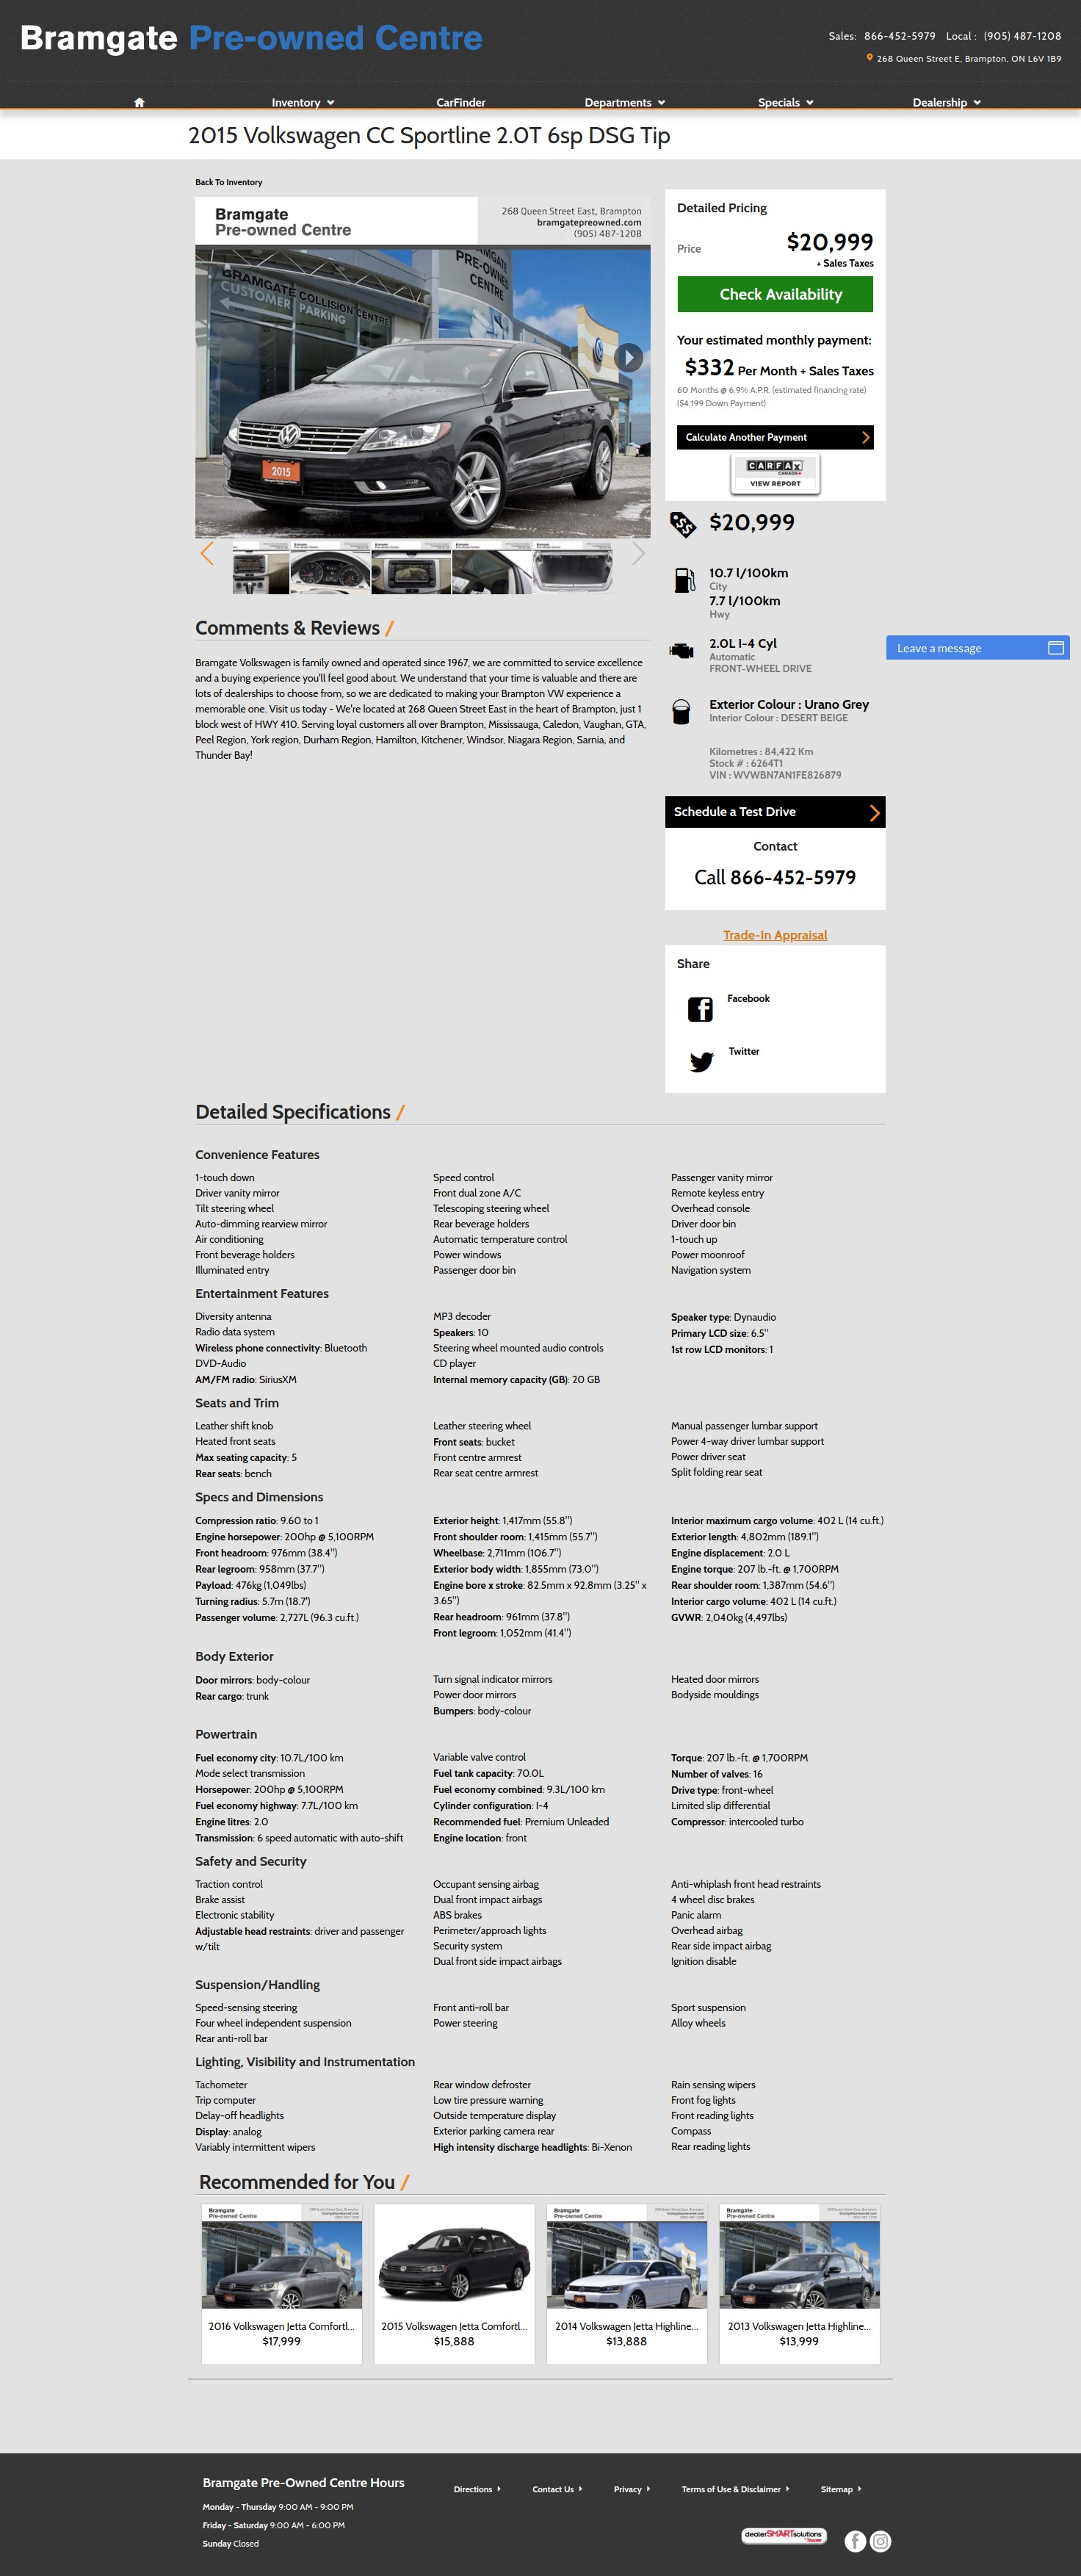car: (613, 343, 644, 375)
